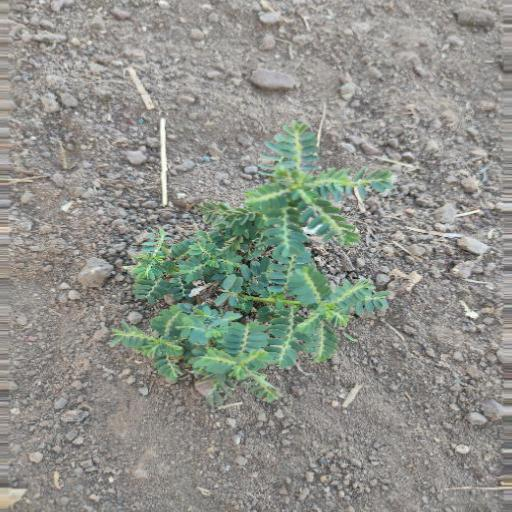weed: (109, 115, 401, 406)
